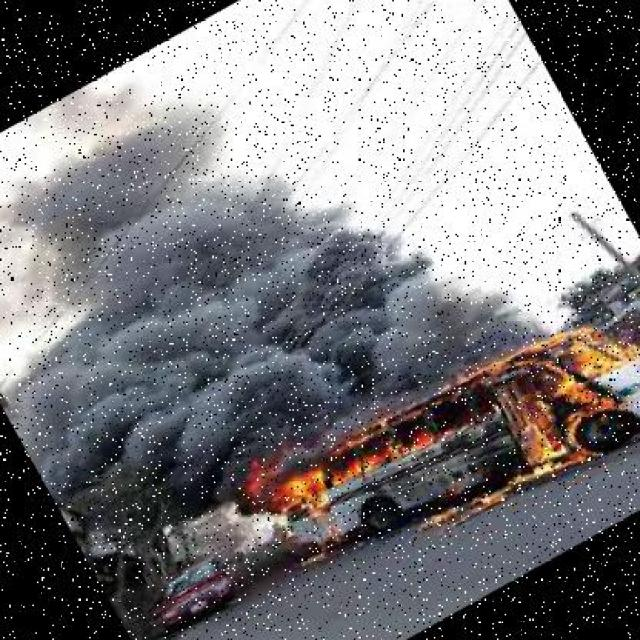fire: (410, 282, 638, 530), (218, 378, 442, 584)
